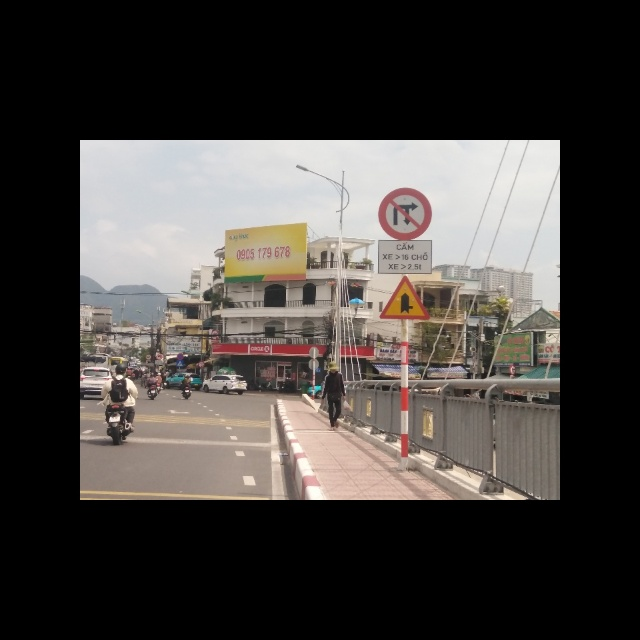Cấm quay đầu và rẽ phải: (377, 187, 432, 240)
Giao nhau với đường không ưu tiên: (379, 276, 428, 321)
